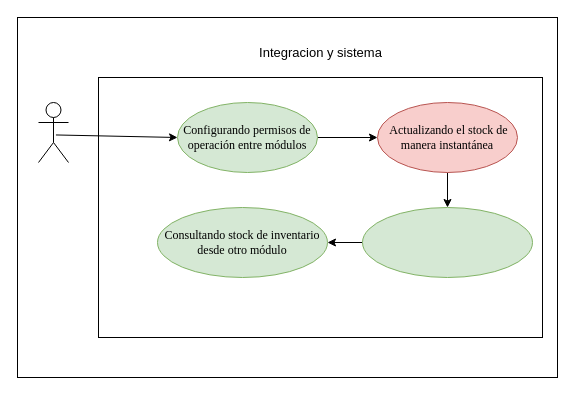
Image size: 575x395. Some labels were removed from this diagram. The shapes that lost their labels are listed below. From the top down, each one's centre as x and y in pixels, then its label:
(53,132): Gerencia
(447,242): Registrando movimiento de inventario desde otro módulo
